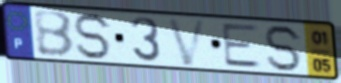3: (129, 16, 163, 64)
B: (31, 10, 76, 59)
E: (220, 23, 264, 70)
S: (263, 23, 305, 73), (73, 11, 115, 61)
V: (165, 16, 210, 67)
